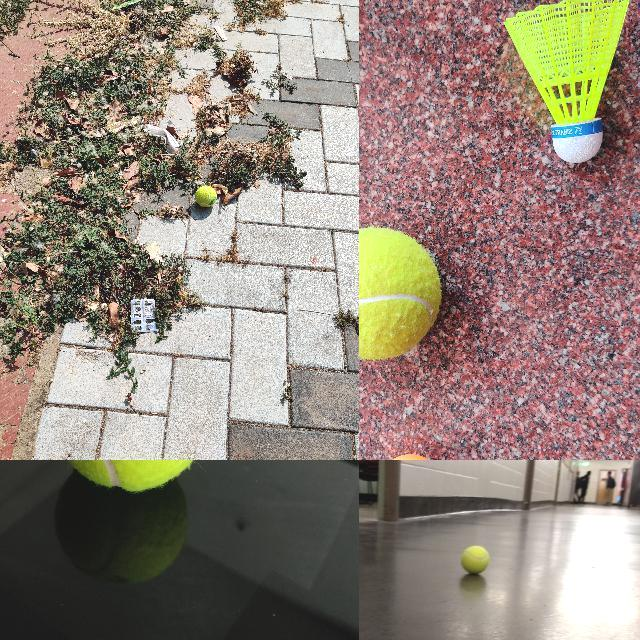Tennis Ball: (360, 227, 443, 360), (47, 460, 212, 493), (461, 545, 490, 574), (195, 186, 216, 207)
